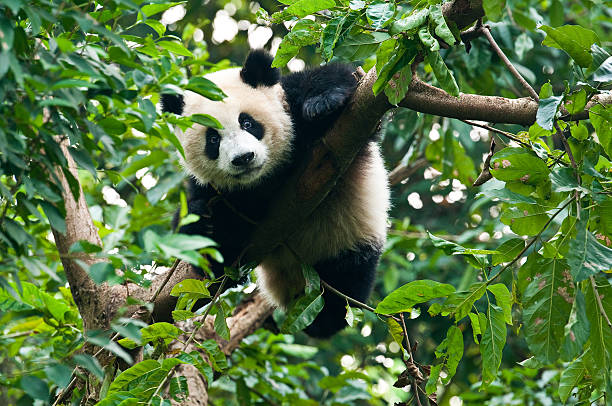panda: (123, 46, 317, 207)
